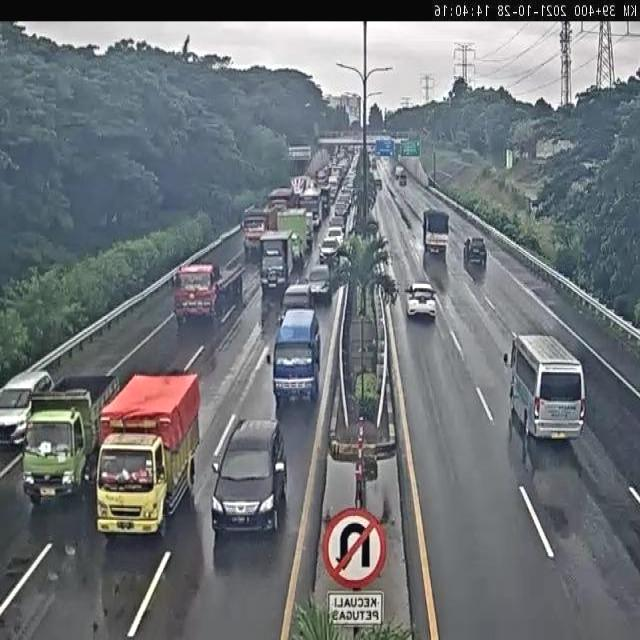Bus: (298, 185, 323, 233)
Car: (211, 417, 288, 536), (405, 282, 437, 321), (308, 262, 334, 306), (319, 227, 343, 260), (464, 237, 487, 267)
Truck: (95, 372, 200, 536), (23, 371, 120, 510), (172, 258, 243, 329), (258, 229, 300, 299), (276, 208, 312, 266), (242, 208, 270, 260), (423, 209, 450, 254)
Van: (510, 332, 586, 438), (272, 308, 323, 406)
